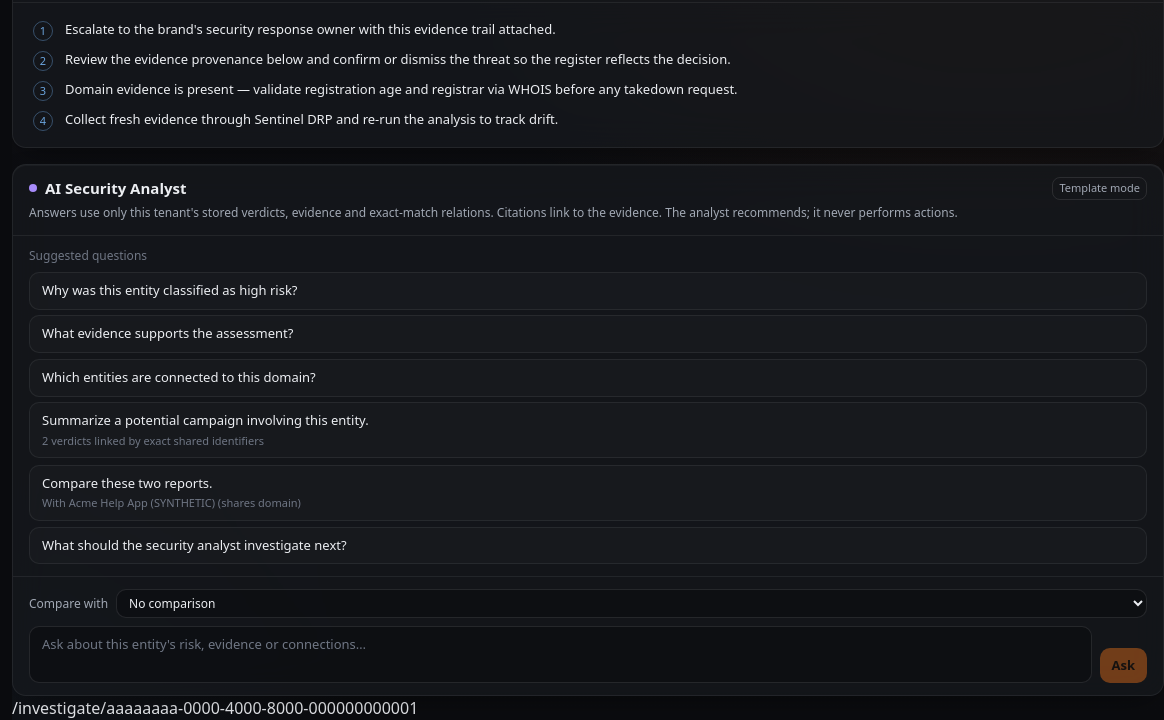
Investigation workspace › summarizes a potential campaign from exact-match linked verdicts only
The image size is (1164, 720).
(page scrolled)
Click the button "Summarize a potential campaign involving this entity" at (205, 421), box [29,403,1147,459]
(page scrolled)
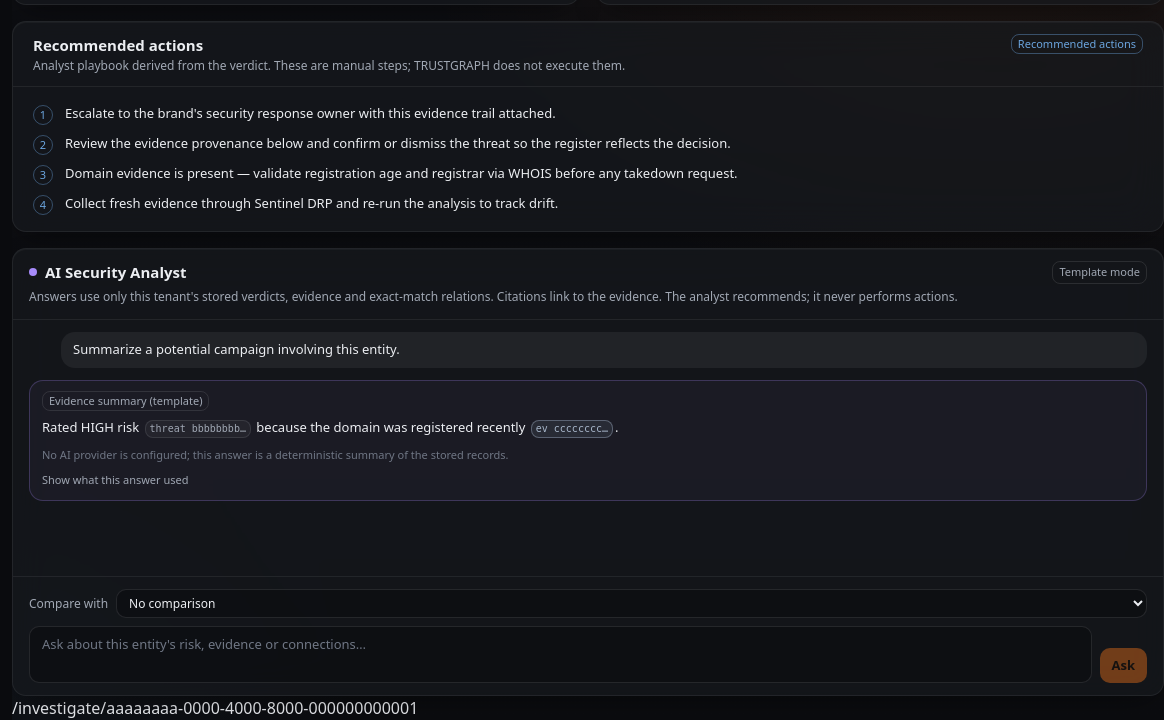
Expected: the text "Evidence summary (template)" is shown, [42,391,210,411]
